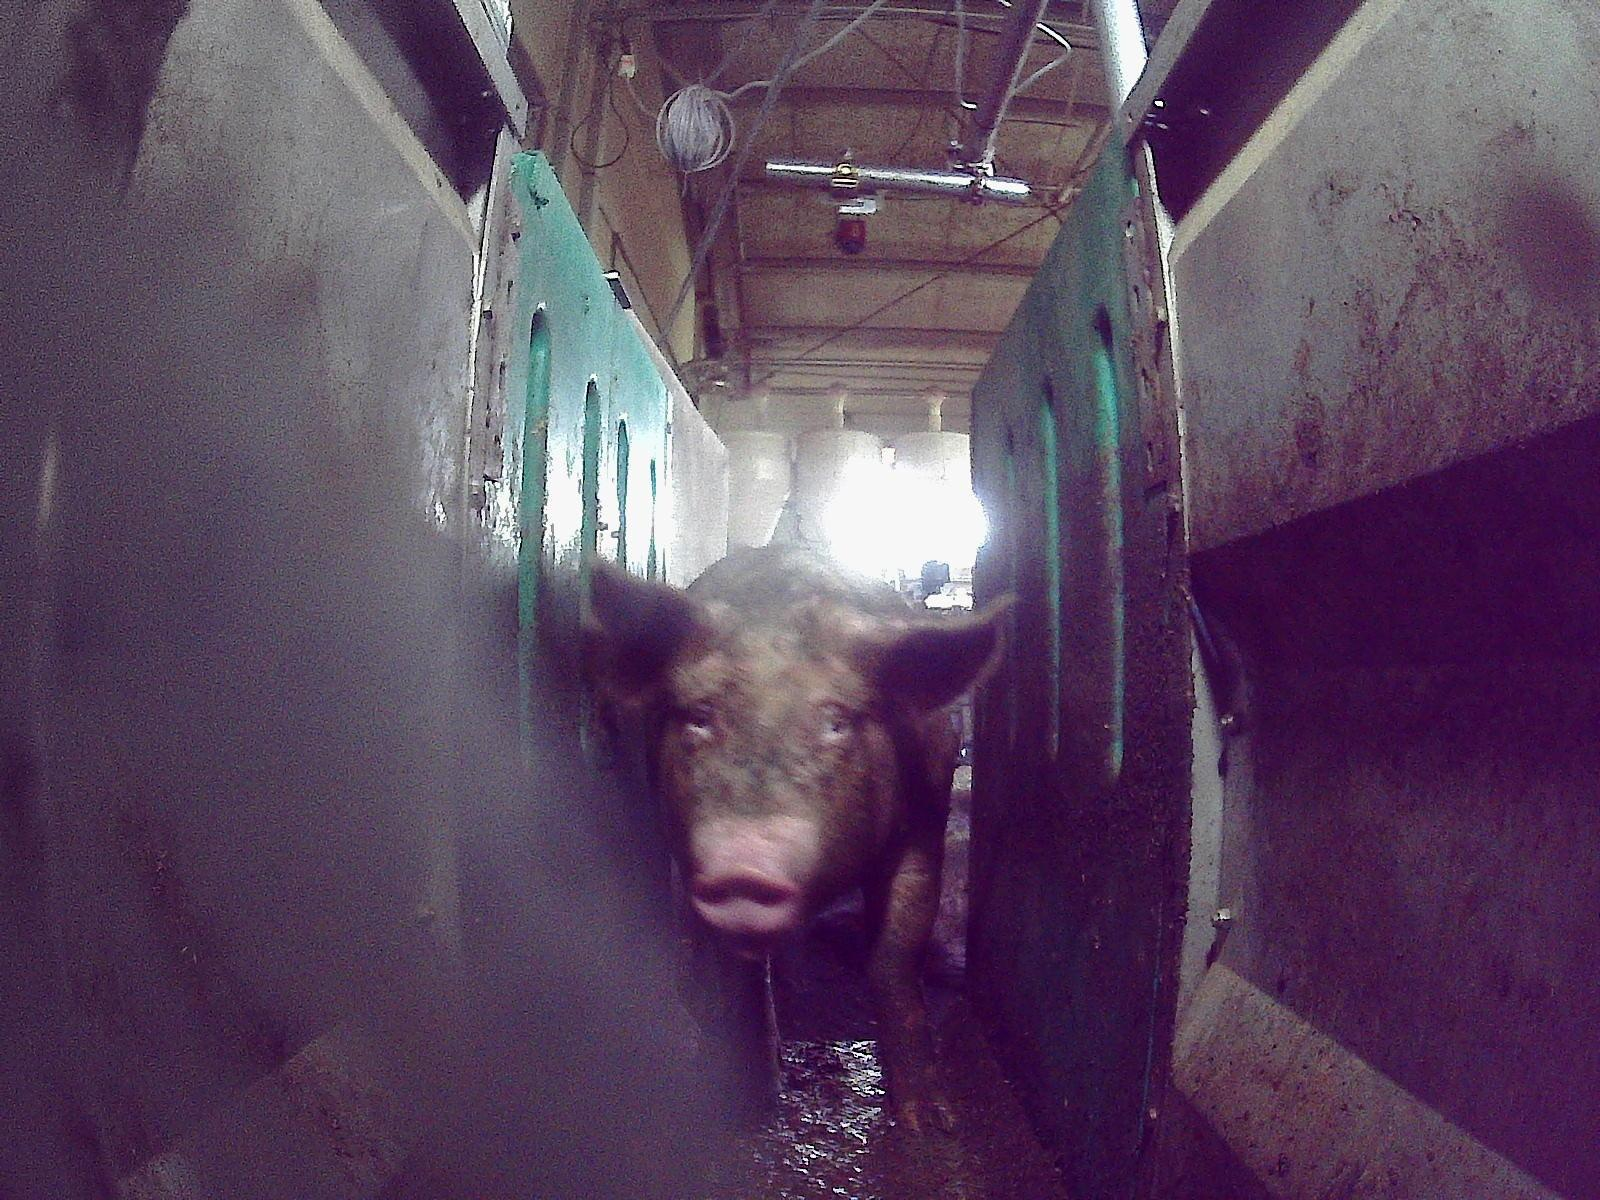Face: (662, 632, 891, 948)
